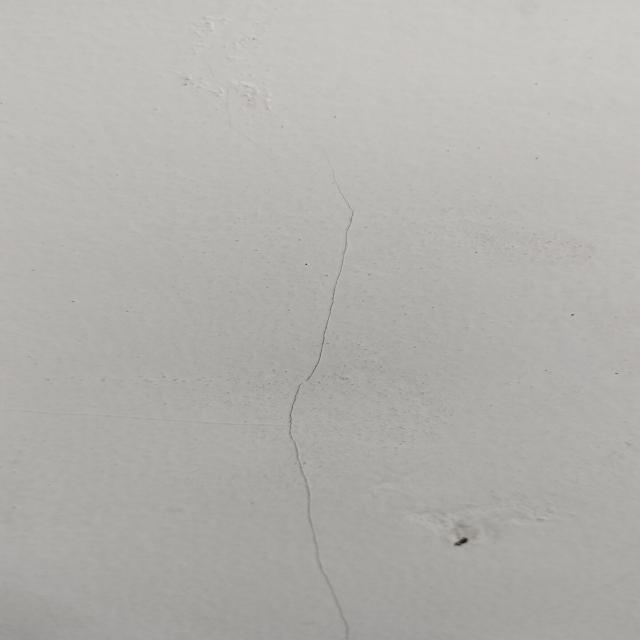Crack: (276, 167, 382, 639)
